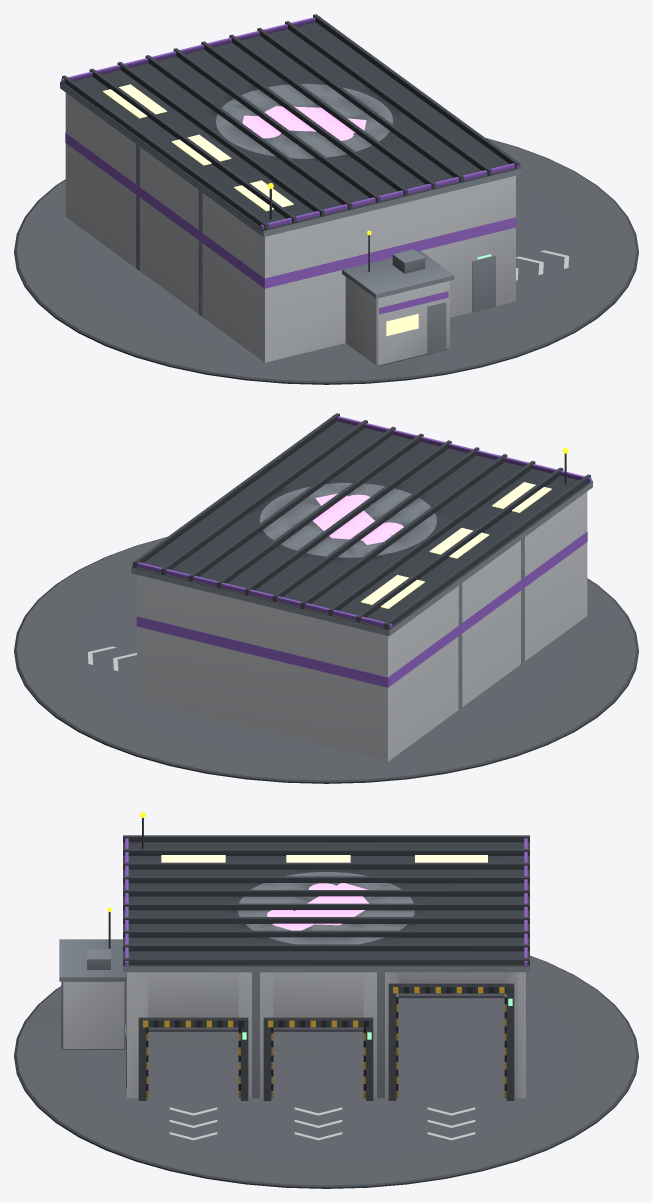
Rendered from rover_depot_l.glb.
3 renders of one model, top to bottom at view 1: azimuth 30°, elevation 25°; view 2: azimuth 150°, elevation 25°; view 3: azimuth 270°, elevation 25°, orthographic.
Parts seen in each view (by area): view 1: Base, Roof, Lights; view 2: Base, Roof, Lights; view 3: Base, Roof, Lights.
Part boxes in pixels (x1,y1,x2,y2): Base: (14,93,638,384); Roof: (60,14,521,271); Lights: (103,84,491,336); Base: (14,492,638,783); Roof: (131,413,592,636); Lights: (361,447,568,608); Base: (14,939,638,1188); Roof: (108,818,529,972); Lights: (107,812,512,1039).
Size of the model in its own units: 23.5 by 7.17 by 23.5.
